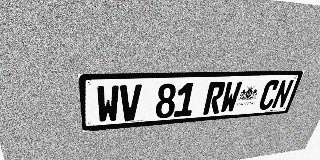1: (174, 82, 197, 117)
8: (155, 83, 178, 119)
C: (257, 80, 281, 110)
N: (271, 79, 294, 109)
R: (203, 82, 226, 115)
V: (119, 84, 142, 121)
W: (96, 85, 119, 123), (219, 81, 243, 113)
